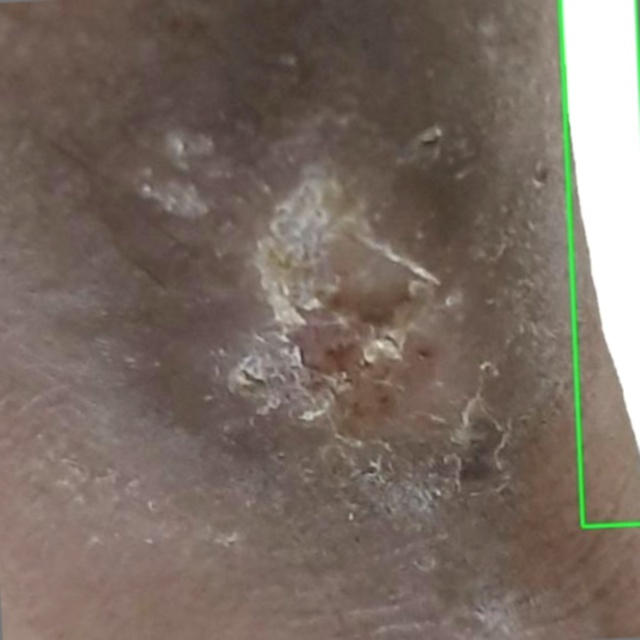Eczema: (560, 0, 639, 527)
